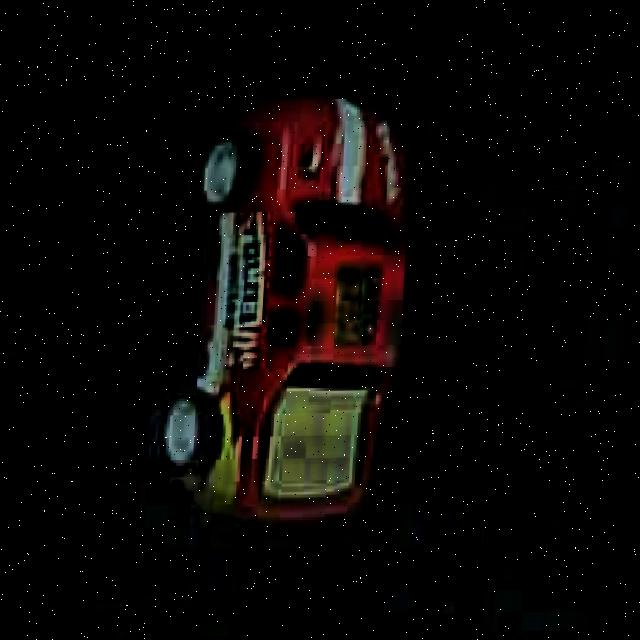car: (140, 92, 419, 527)
